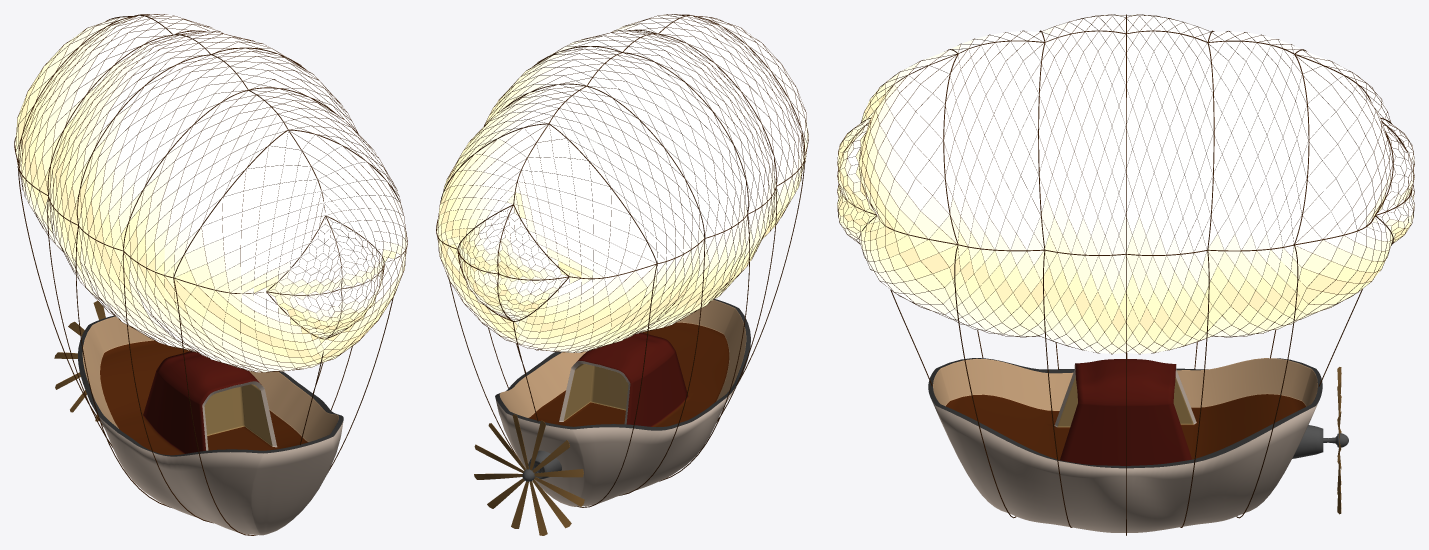
File: hotballoon.glb
3 views of the same model, side by side, from view 1: azimuth 30°, elevation 25°; view 2: azimuth 150°, elevation 25°; view 3: azimuth 270°, elevation 25° (orthographic). The views are drawn at different scales.
Parts seen in each view (by area): view 1: Cylinder006, Box003, Shape007, Plane007_Material #4_0; view 2: Cylinder006, Box003, Shape007, Plane007_Material #4_0, Cylinder005; view 3: Cylinder006, Box003, Shape007, Cylinder005.
Part boxes in pixels (x1=…): Cylinder006: x1=14, y1=14, x2=407, y2=372; Box003: x1=78, y1=315, x2=343, y2=535; Shape007: x1=14, y1=14, x2=407, y2=535; Plane007_Material #4_0: x1=54, y1=300, x2=105, y2=421; Cylinder006: x1=436, y1=14, x2=808, y2=352; Box003: x1=495, y1=299, x2=750, y2=506; Shape007: x1=436, y1=14, x2=808, y2=507; Plane007_Material #4_0: x1=474, y1=414, x2=584, y2=535; Cylinder005: x1=522, y1=450, x2=561, y2=481; Cylinder006: x1=837, y1=14, x2=1414, y2=354; Box003: x1=928, y1=358, x2=1322, y2=532; Shape007: x1=843, y1=14, x2=1411, y2=535; Cylinder005: x1=1292, y1=425, x2=1348, y2=458.
Bounding box in the file's own units: 9.9 × 15.93 × 16.88.
